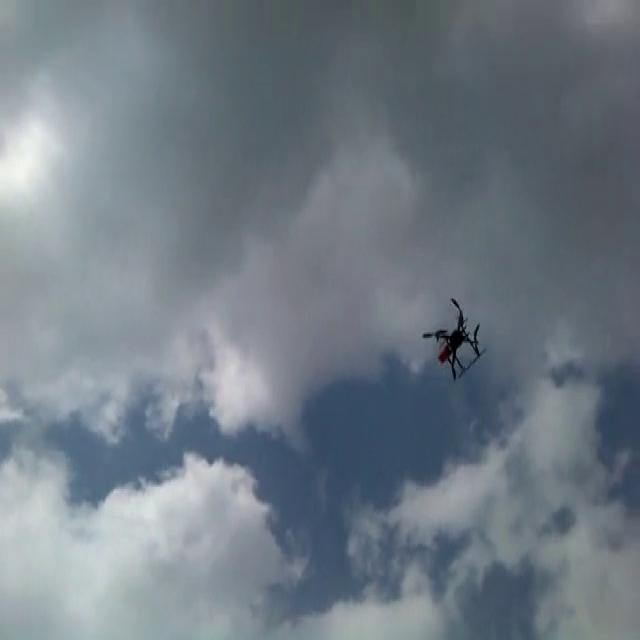drone: (420, 294, 487, 382)
